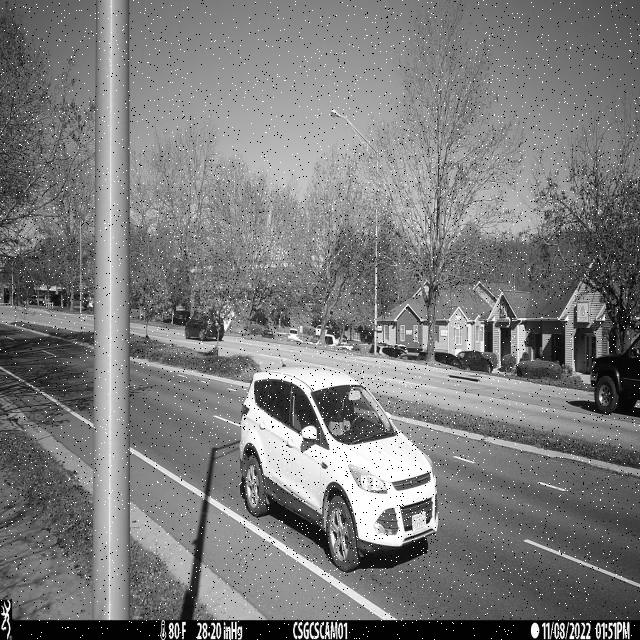SUV: (239, 363, 438, 573)
